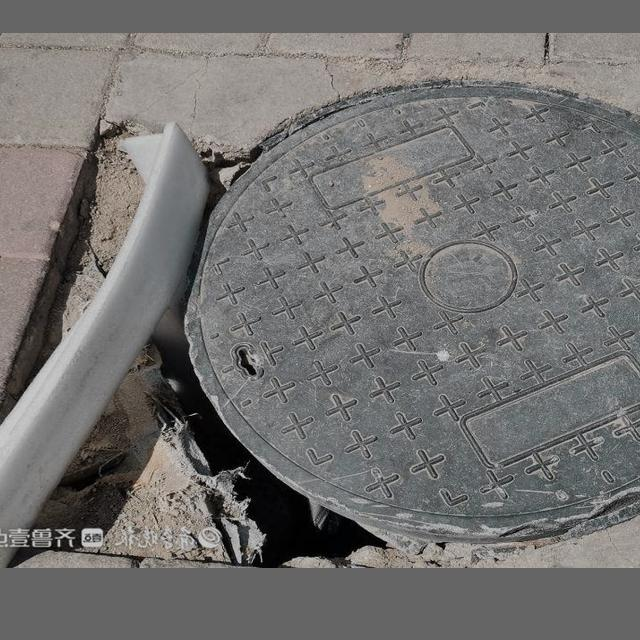circle: (30, 82, 640, 552)
